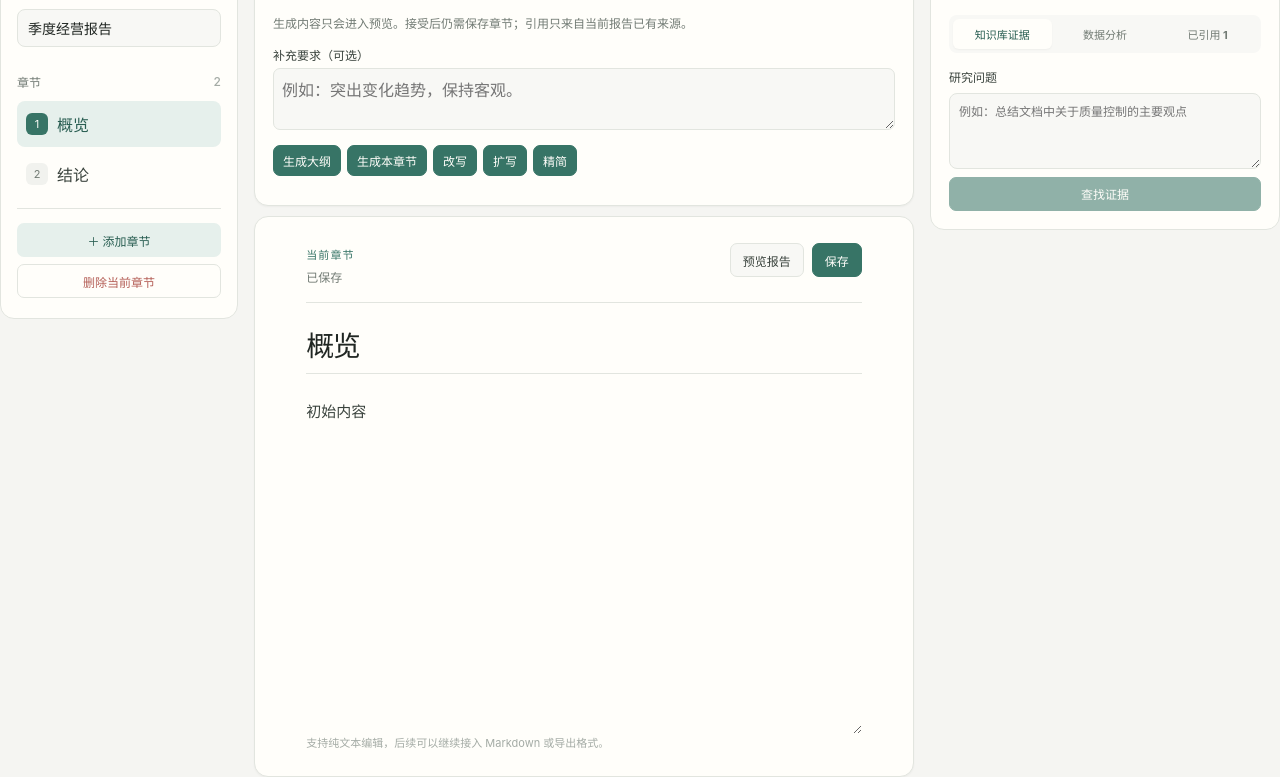
Test case: ReportWorkspaceView › saves dirty edits before switching sections
The width and height of the screenshot is (1280, 777).
(page scrolled)
Replace the text in the text box with class "report-editor__textarea" with "切换前已保存" at [584, 554], box [306,374,862,734]
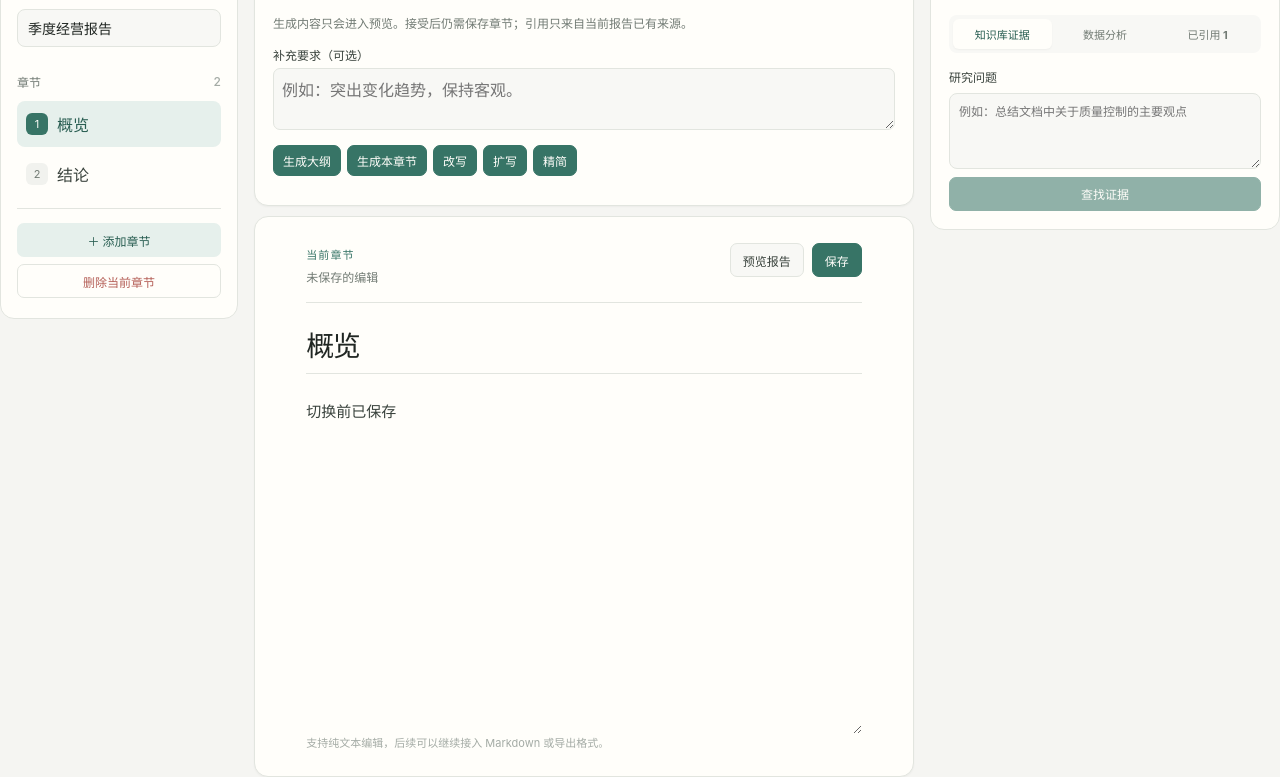
Click the button with class "report-outline__section" showing "2 结论" at [119, 174], box [17,151,221,197]
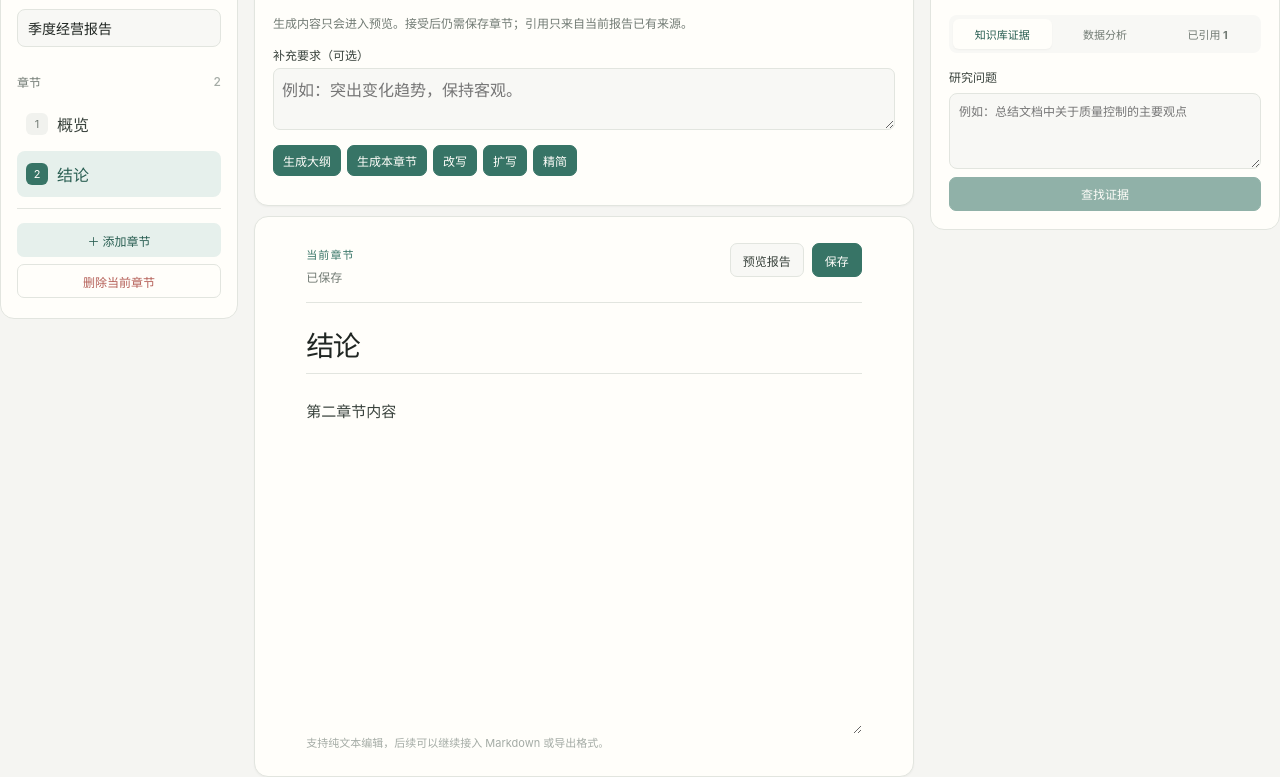
Result: the text box with class "report-editor__textarea" holds "第二章节内容" at [306,374,862,734]
